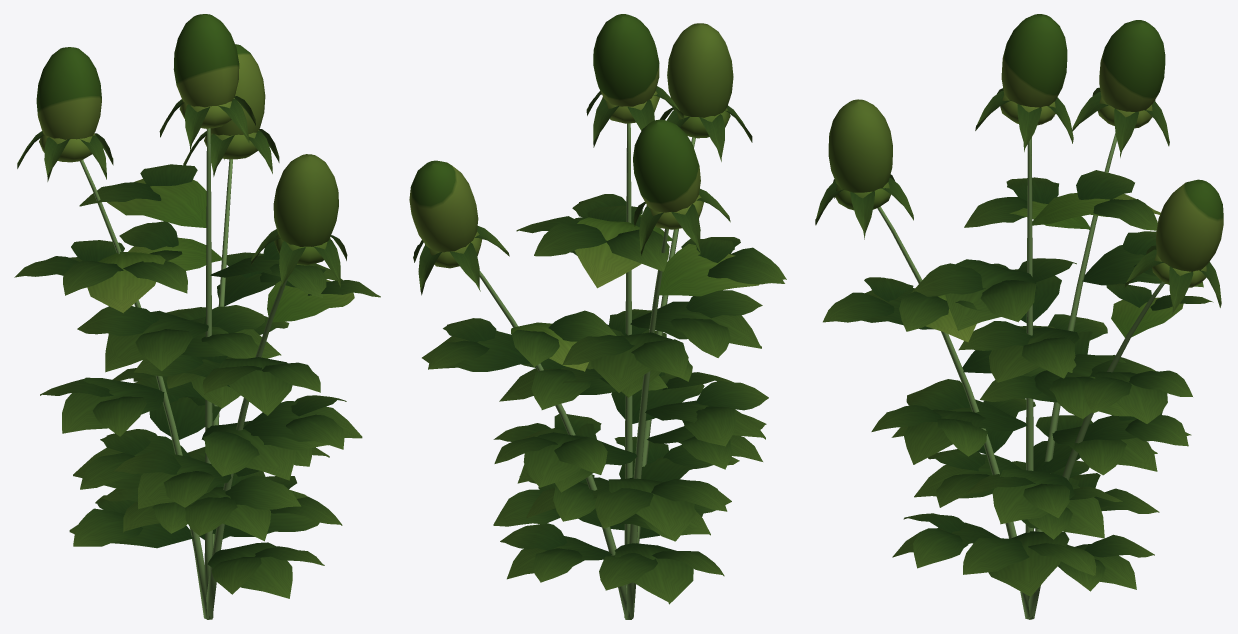
Rendered from dahlia-07-lod.glb.
3 renders of one model, left to right at view 1: azimuth 30°, elevation 25°; view 2: azimuth 150°, elevation 25°; view 3: azimuth 270°, elevation 25°, orthographic.
Parts seen in each view (by area): view 1: dahlia_stage_07_leaf_veins.013, dahlia_stage_07_young_leaf.013, dahlia_stage_07_stem_fibres.013; view 2: dahlia_stage_07_leaf_veins.013, dahlia_stage_07_young_leaf.013, dahlia_stage_07_stem_fibres.013; view 3: dahlia_stage_07_leaf_veins.013, dahlia_stage_07_young_leaf.013, dahlia_stage_07_stem_fibres.013.
Boxes of the visible parts, x1=… form: dahlia_stage_07_leaf_veins.013: x1=14, y1=96, x2=380, y2=598; dahlia_stage_07_young_leaf.013: x1=36, y1=14, x2=354, y2=322; dahlia_stage_07_stem_fibres.013: x1=80, y1=128, x2=287, y2=619; dahlia_stage_07_leaf_veins.013: x1=413, y1=86, x2=786, y2=604; dahlia_stage_07_young_leaf.013: x1=409, y1=14, x2=759, y2=371; dahlia_stage_07_stem_fibres.013: x1=479, y1=123, x2=695, y2=619; dahlia_stage_07_leaf_veins.013: x1=815, y1=87, x2=1221, y2=596; dahlia_stage_07_young_leaf.013: x1=828, y1=14, x2=1223, y2=342; dahlia_stage_07_stem_fibres.013: x1=877, y1=132, x2=1165, y2=619.
Size of the model in its own units: 0.2882 by 0.5544 by 0.3408.
3 materials, 2 textured.
